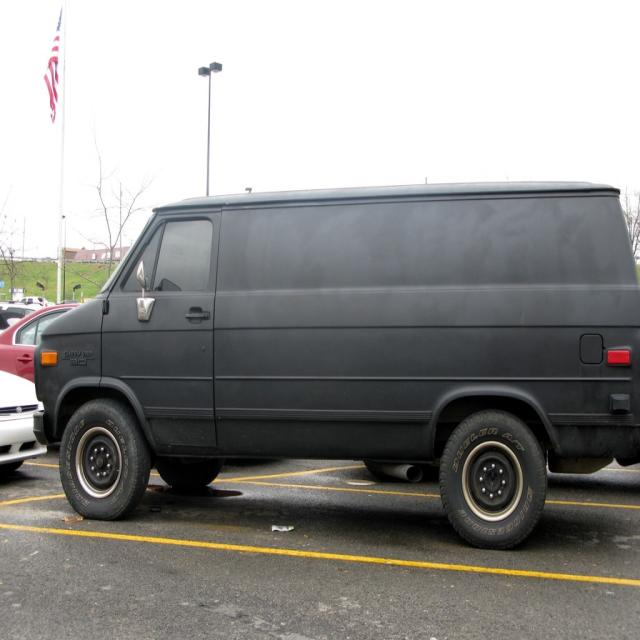Car: (0, 294, 83, 476)
